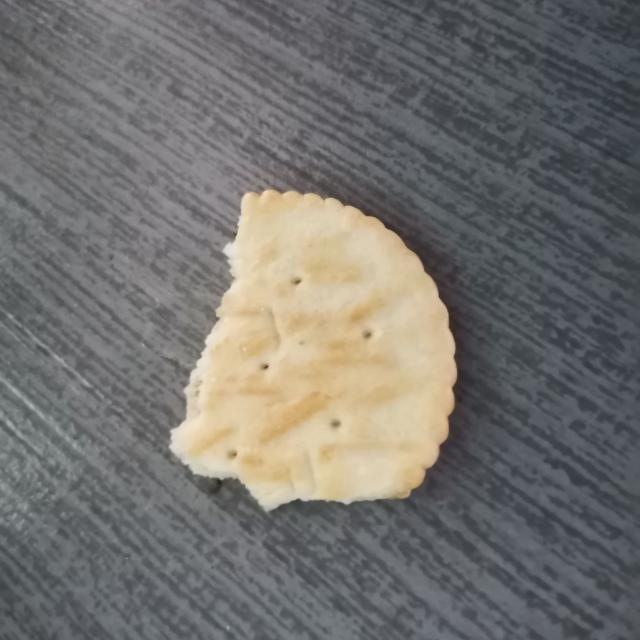Broken: (168, 187, 459, 513)
